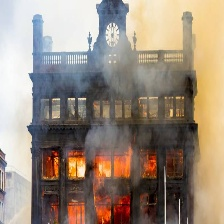fire: (44, 151, 158, 224)
smoke: (38, 2, 224, 146)
